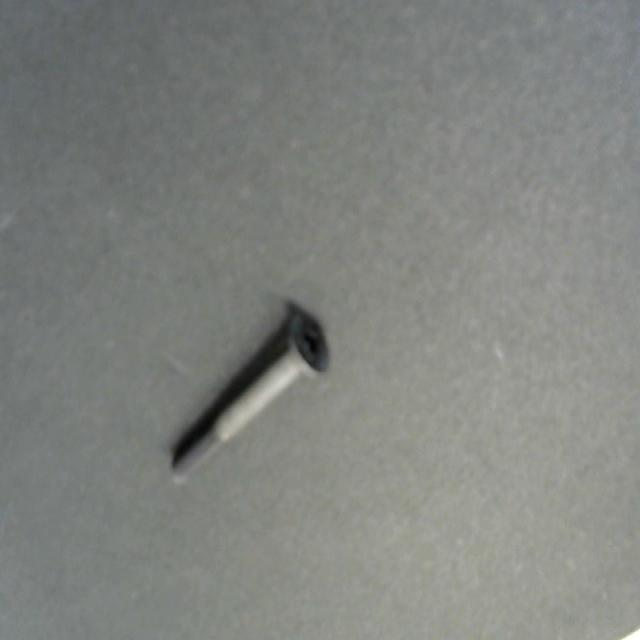FlatHeadSocketScrew: (163, 307, 341, 496)
